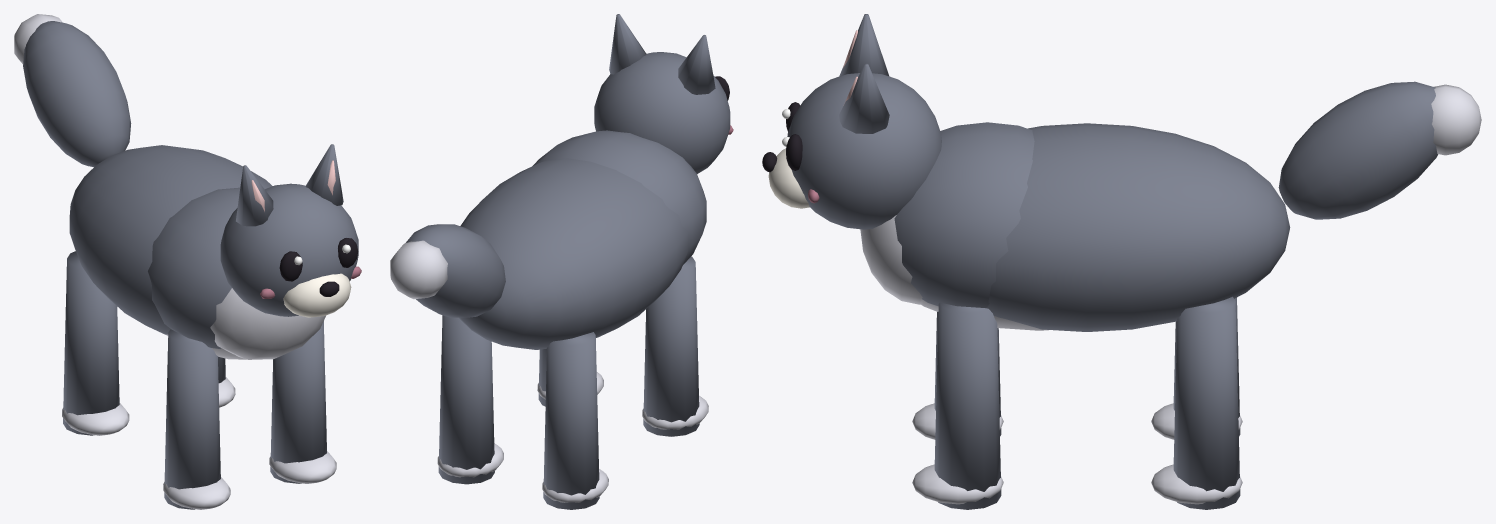
File: Pet_Wolf.fbx
The picture shows the model from 3 angles, left to right: view 1: azimuth 30°, elevation 25°; view 2: azimuth 150°, elevation 25°; view 3: azimuth 270°, elevation 25°; orthographic projection. The views are drawn at different scales.
Parts seen in each view (by area): view 1: Pet_Wolf; view 2: Pet_Wolf; view 3: Pet_Wolf.
Part boxes in pixels (left/top/right/bottom): Pet_Wolf: left=14, top=14, right=361, bottom=509; Pet_Wolf: left=390, top=14, right=733, bottom=509; Pet_Wolf: left=762, top=14, right=1481, bottom=509.
Bounding box in the file's own units: 2.39 × 4.51 × 6.86.
1 material, 1 textured.
